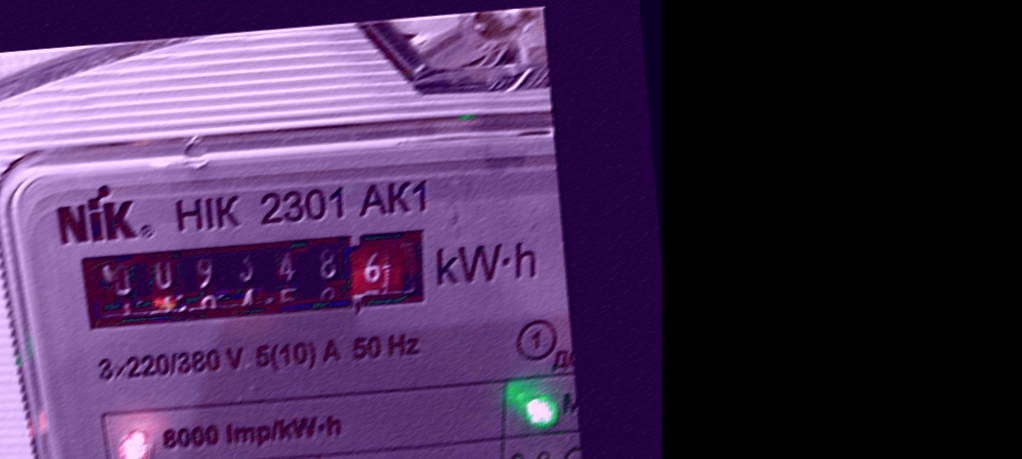0: (151, 255, 175, 293), (111, 261, 134, 298)
3: (233, 249, 258, 283)
4: (273, 246, 297, 285)
6: (360, 249, 385, 284)
8: (316, 244, 339, 280)
9: (194, 253, 215, 288)
screen: (57, 212, 449, 347)
